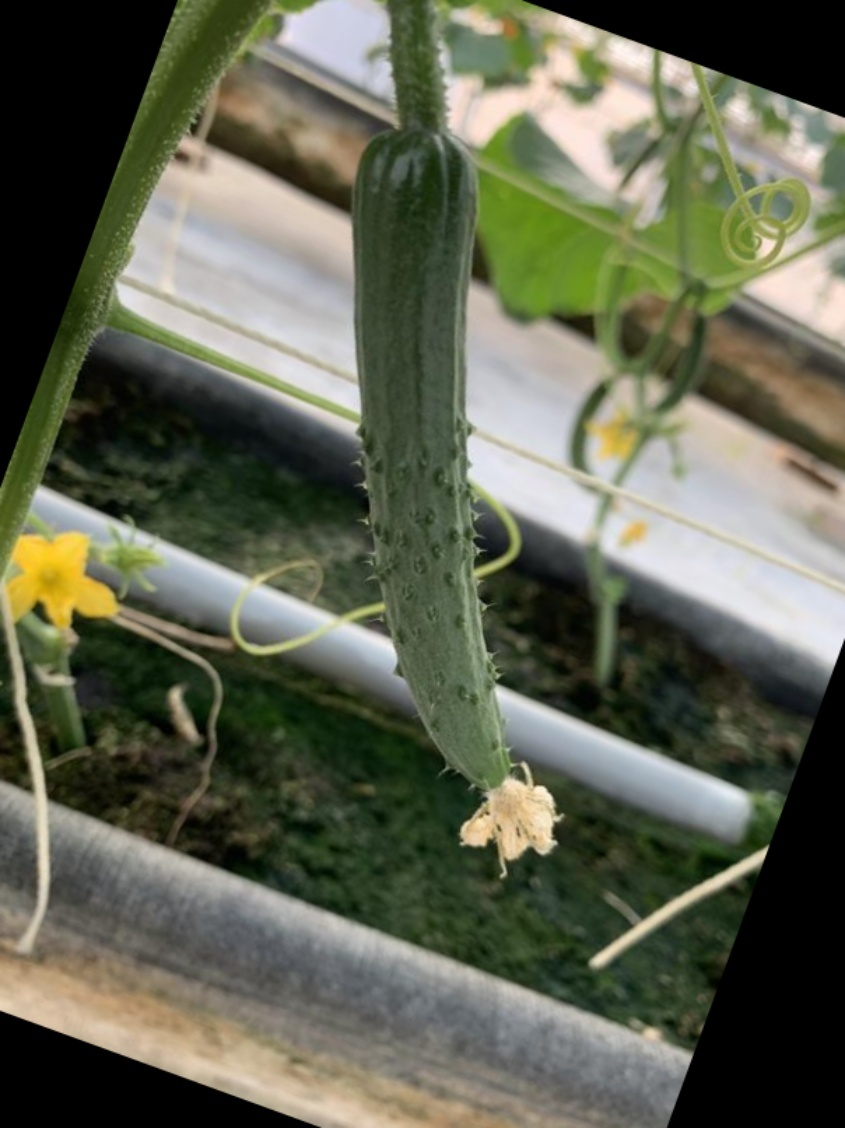growth: (322, 108, 545, 835)
